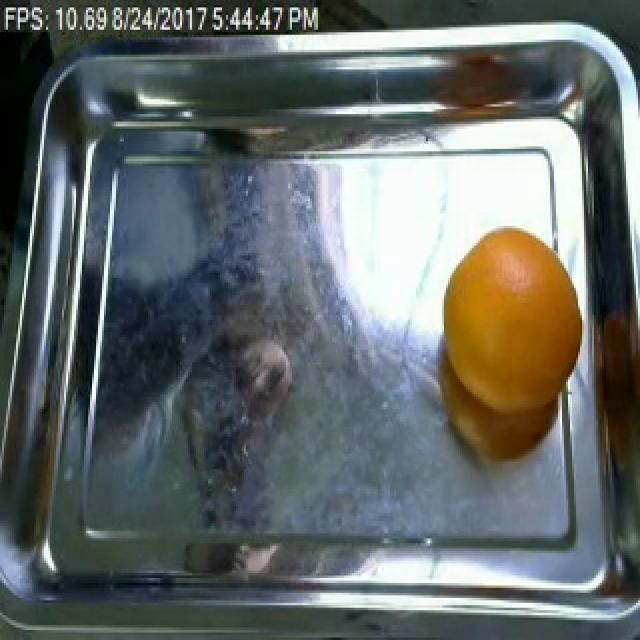Fruit: (436, 221, 590, 466)
